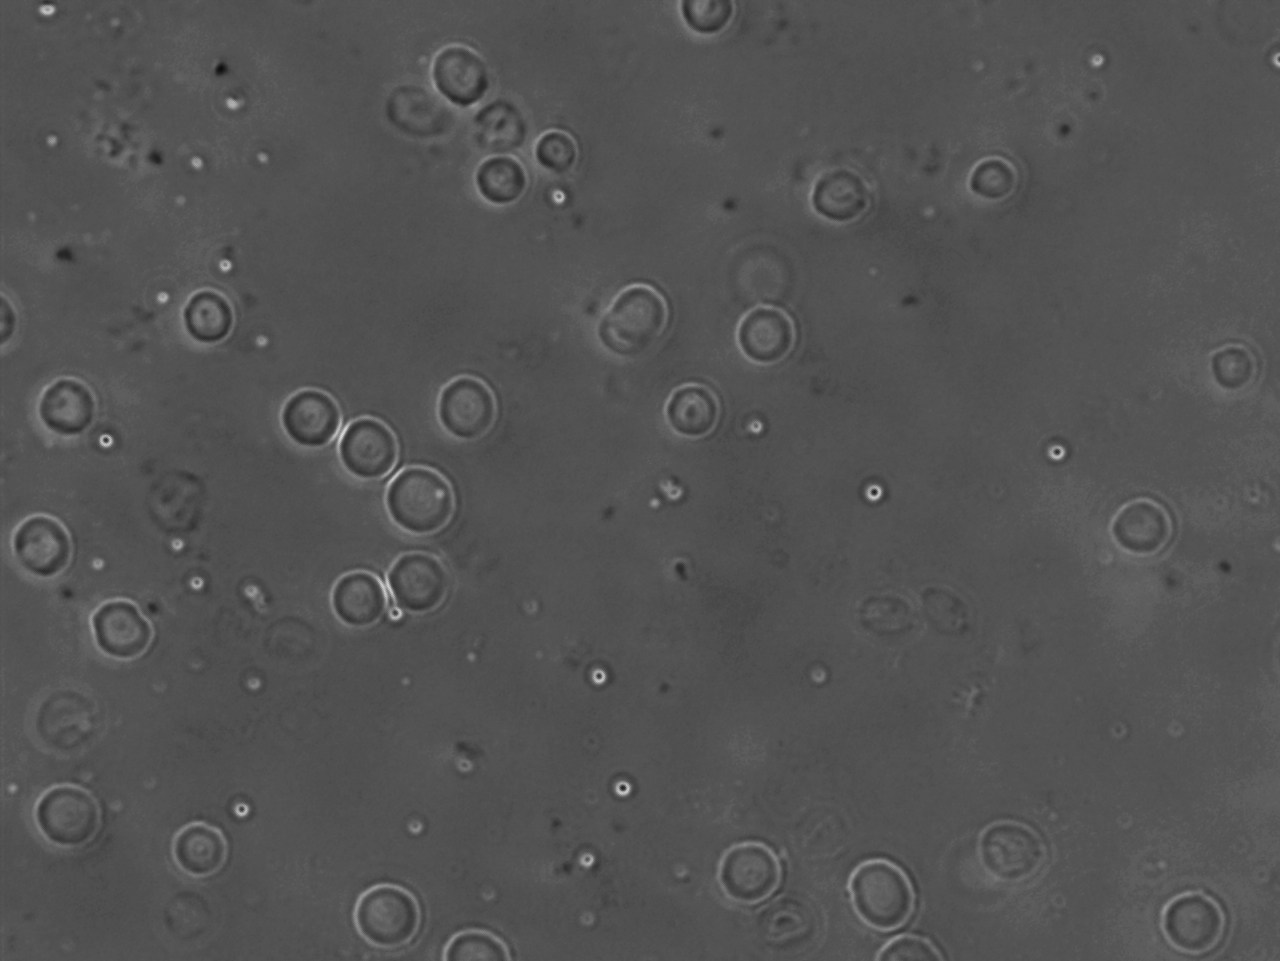depth:0: (833, 842, 928, 937), (26, 766, 121, 860), (1095, 480, 1188, 573), (374, 455, 466, 547), (723, 290, 816, 378), (0, 503, 90, 592), (799, 155, 893, 240), (421, 366, 507, 458), (333, 869, 428, 951), (76, 586, 165, 672), (1147, 879, 1241, 960), (28, 363, 115, 450), (168, 806, 252, 891), (421, 37, 507, 121), (650, 368, 738, 449), (268, 375, 351, 456), (696, 836, 788, 910), (376, 546, 460, 626), (318, 558, 401, 638), (332, 405, 412, 487), (171, 278, 248, 359), (465, 140, 542, 213), (422, 913, 516, 961)
